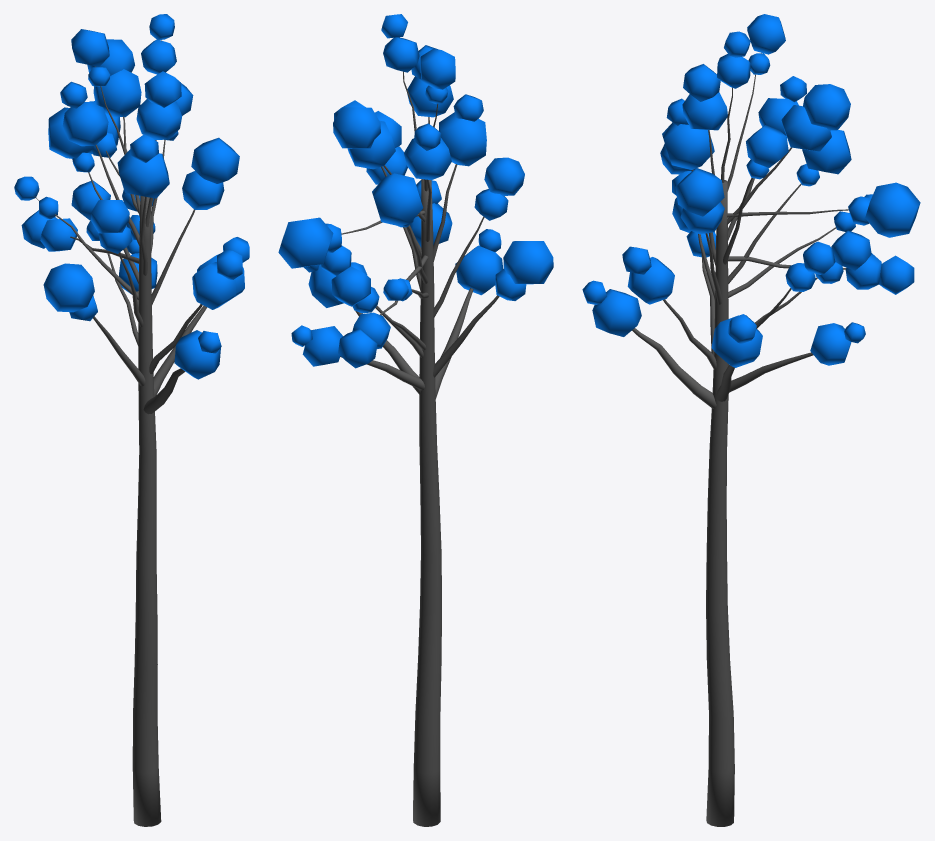
File: MarkTree.fbx
3 views of the same model, side by side, from view 1: azimuth 30°, elevation 25°; view 2: azimuth 150°, elevation 25°; view 3: azimuth 270°, elevation 25° (orthographic).
Parts seen in each view (by area): view 1: merge1; view 2: merge1; view 3: merge1.
Boxes of the visible parts, x1,y1,x2,y2 form: merge1: [14, 14, 249, 826]; merge1: [278, 14, 553, 826]; merge1: [582, 14, 920, 826].
Size of the model in its own units: 36.66 by 125 by 48.01.
